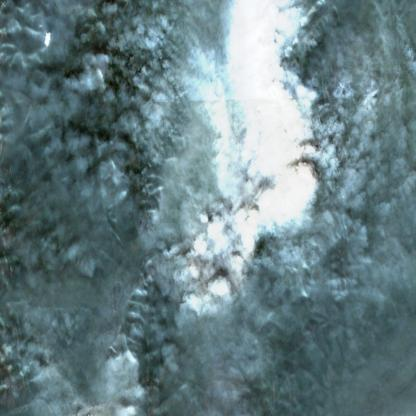fire: (190, 155, 324, 318)
